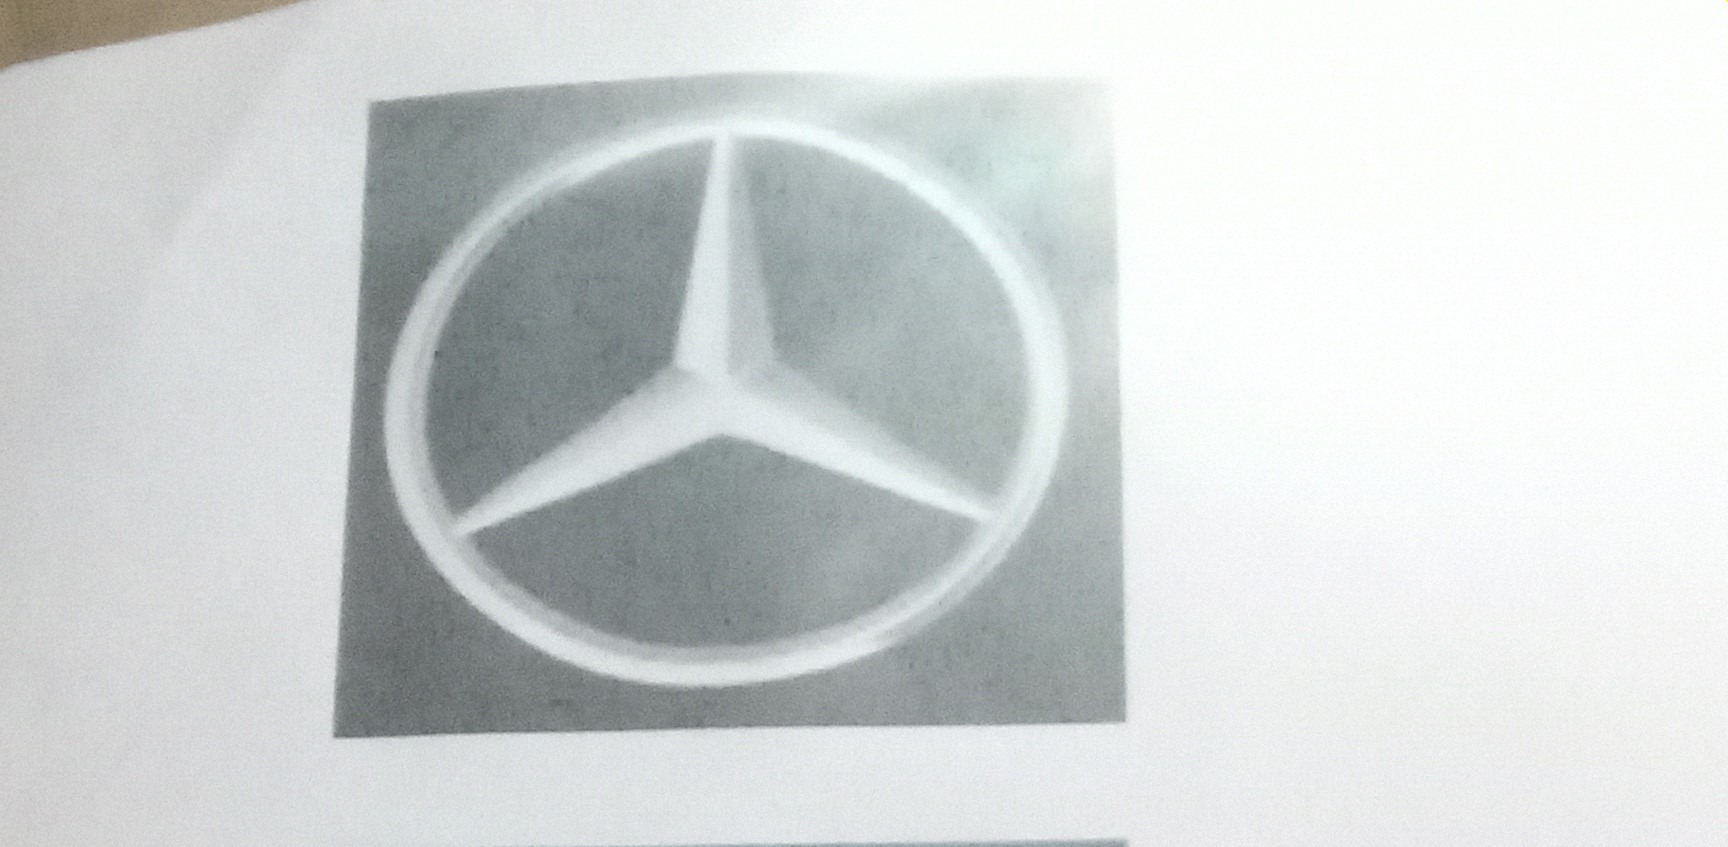Mercedes: (372, 95, 1121, 709)
